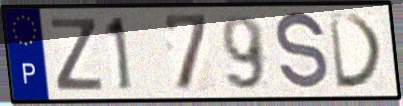1: (102, 15, 135, 93)
7: (163, 12, 211, 94)
9: (221, 14, 269, 91)
D: (326, 11, 387, 92)
S: (273, 9, 331, 95)
Z: (48, 16, 105, 93)
